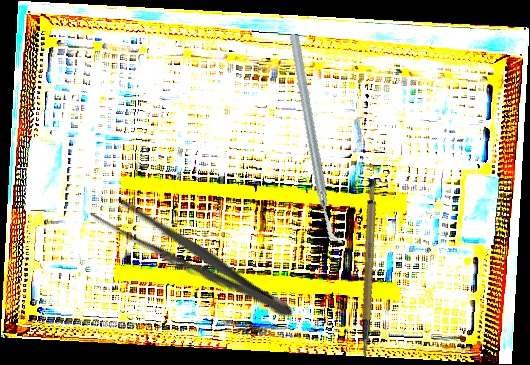Chopper: (246, 33, 387, 246)
Dressing Forceps: (86, 188, 302, 330)
Scalpel Handle: (333, 177, 401, 358)
